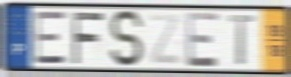E: (185, 11, 222, 69), (32, 10, 68, 66)
F: (70, 11, 107, 66)
S: (107, 8, 147, 70)
T: (227, 13, 257, 67)
Z: (146, 12, 184, 67)
